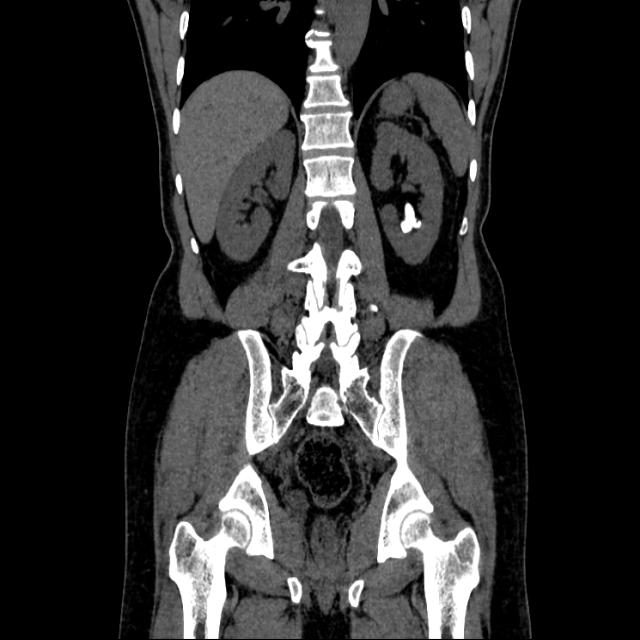kidneystone: (400, 203, 421, 233)
